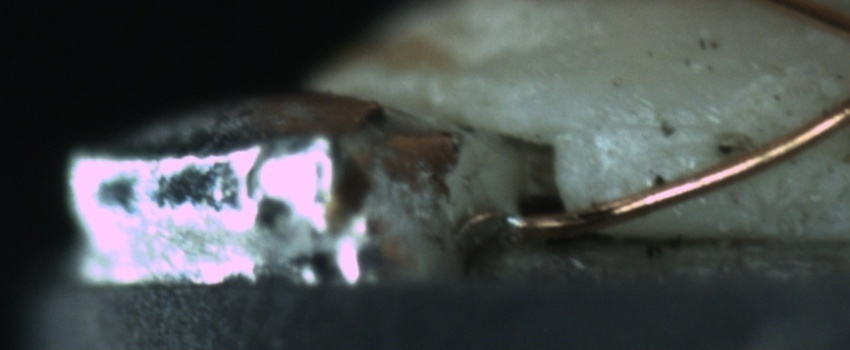DL: (579, 98, 713, 155)
